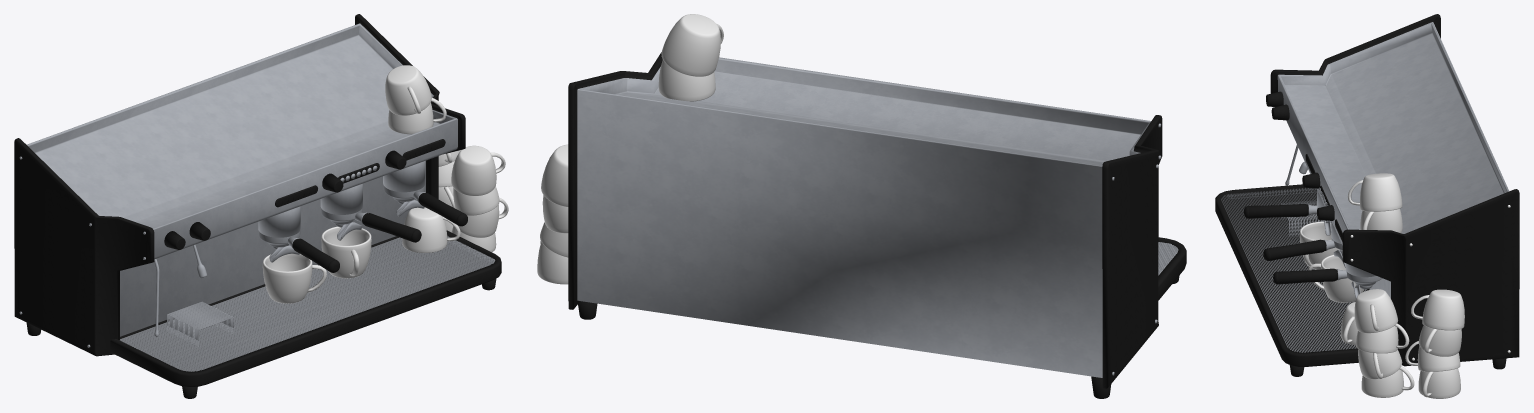
The model's file is coffee.glb.
3 views of the same model, side by side, from view 1: azimuth 30°, elevation 25°; view 2: azimuth 150°, elevation 25°; view 3: azimuth 270°, elevation 25° (orthographic). The views are drawn at different scales.
Parts seen in each view (by area): view 1: Cube.002, Cube.001, Cube, Cylinder.020, Cylinder.001, Cylinder.015, Cylinder.012, Cylinder.013, Cylinder.014, Cube.004, Cylinder.010, Cylinder (+3 smaller); view 2: Cube.002, Cylinder.015, Cylinder.017, Cube, Cylinder.022; view 3: Cube.002, Cube, Cube.001, Cylinder.017, Cylinder.020, Cylinder.001, Cylinder.015, Cylinder.013, Cylinder.010, Cylinder.012, Cylinder.014, Cube.004 (+1 smaller).
Part boxes in pixels (x1,y1,x2,y2): Cube.002: [14, 14, 465, 356]; Cube.001: [120, 236, 495, 371]; Cube: [110, 230, 501, 386]; Cylinder.020: [451, 145, 508, 252]; Cylinder.001: [259, 185, 467, 272]; Cylinder.015: [385, 65, 446, 134]; Cylinder.012: [262, 253, 326, 303]; Cylinder.013: [321, 226, 371, 278]; Cylinder.014: [402, 207, 460, 253]; Cube.004: [167, 301, 233, 344]; Cylinder.010: [164, 150, 406, 249]; Cylinder: [258, 206, 300, 237]; Cube.002: [568, 52, 1162, 388]; Cylinder.015: [658, 14, 723, 101]; Cylinder.017: [537, 144, 568, 284]; Cube: [1158, 237, 1186, 300]; Cylinder.022: [578, 275, 1179, 398]; Cube.002: [1270, 14, 1519, 366]; Cube: [1215, 184, 1369, 366]; Cube.001: [1221, 187, 1367, 352]; Cylinder.017: [1405, 289, 1464, 398]; Cylinder.020: [1354, 289, 1414, 397]; Cylinder.001: [1244, 204, 1382, 298]; Cylinder.015: [1347, 173, 1402, 233]; Cylinder.013: [1308, 254, 1364, 302]; Cylinder.010: [1266, 91, 1334, 220]; Cylinder.012: [1299, 221, 1340, 269]; Cylinder.014: [1340, 302, 1357, 345]; Cube.004: [1281, 200, 1327, 235].
Bounding box in the file's own units: 1.27 × 0.5193 × 0.7741.
5 materials, 3 textured.
